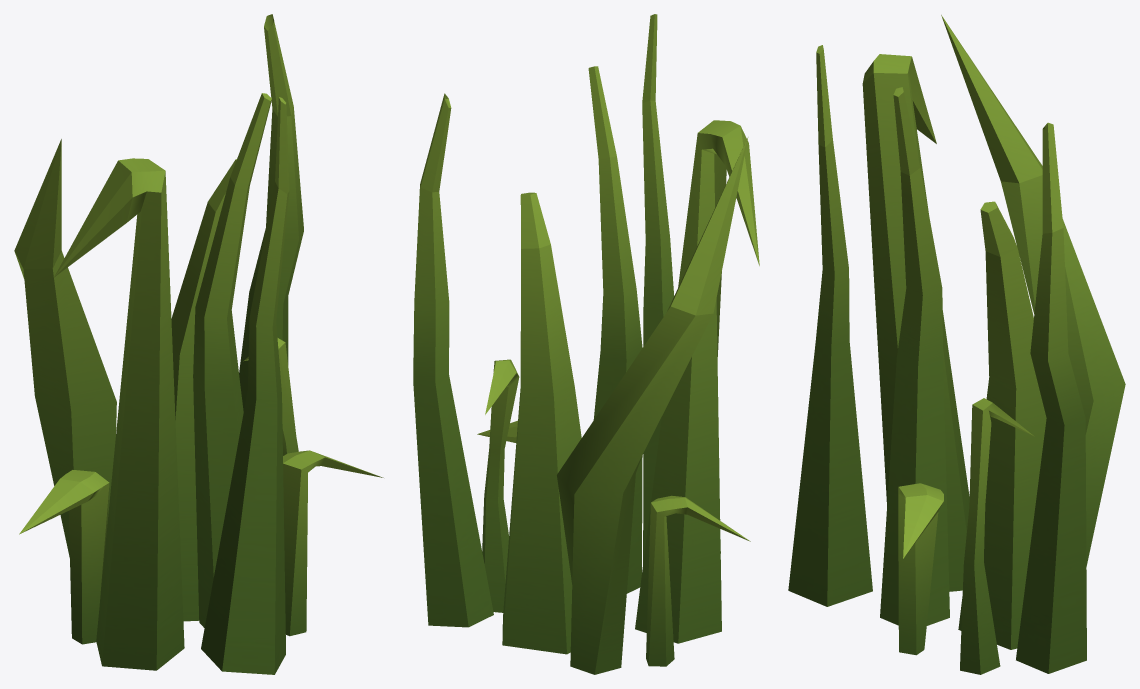
Rendered from hierba8.fbx.
The picture shows the model from 3 angles, left to right: view 1: azimuth 30°, elevation 25°; view 2: azimuth 150°, elevation 25°; view 3: azimuth 270°, elevation 25°; orthographic projection. The views are drawn at different scales.
Visible parts, largest first — view 1: hierba8; view 2: hierba8; view 3: hierba8.
Part boxes in pixels (left/top/right/bottom): hierba8: left=14, top=14, right=383, bottom=674; hierba8: left=413, top=14, right=759, bottom=674; hierba8: left=788, top=15, right=1125, bottom=674.
Bounding box in the file's own units: 171 × 293 × 154.
